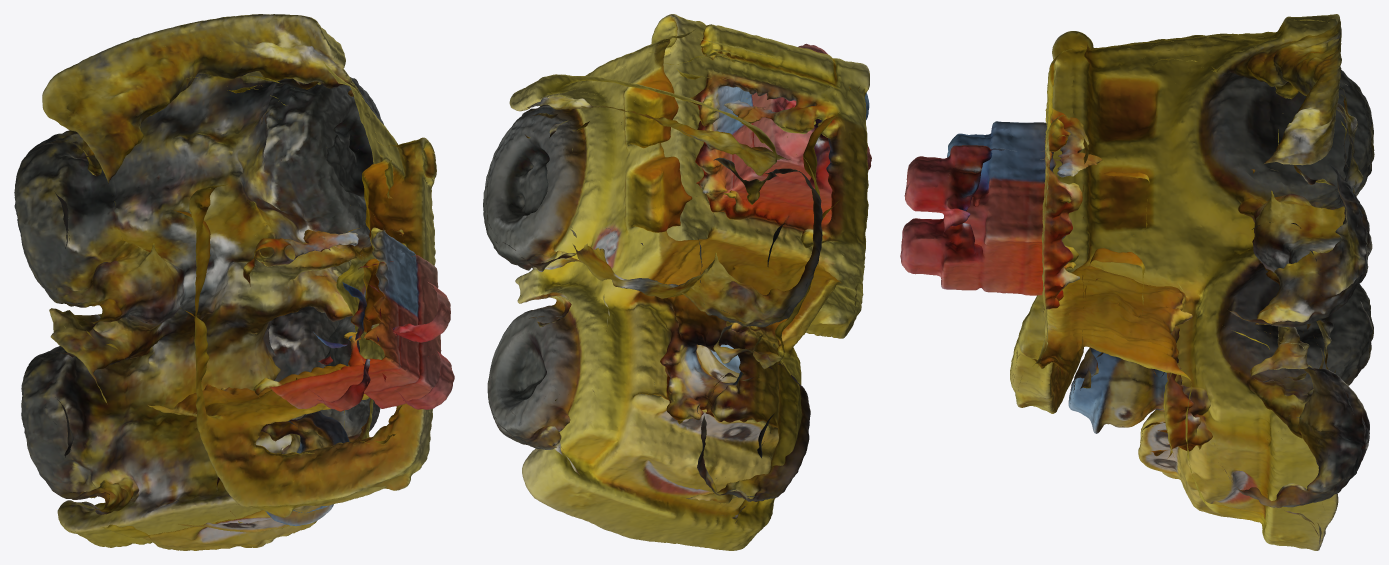
File: school_bus2.glb
3 views of the same model, side by side, from view 1: azimuth 30°, elevation 25°; view 2: azimuth 150°, elevation 25°; view 3: azimuth 270°, elevation 25° (orthographic). The views are drawn at different scales.
Bounding box in the file's own units: 0.6811 × 1 × 0.9468.
